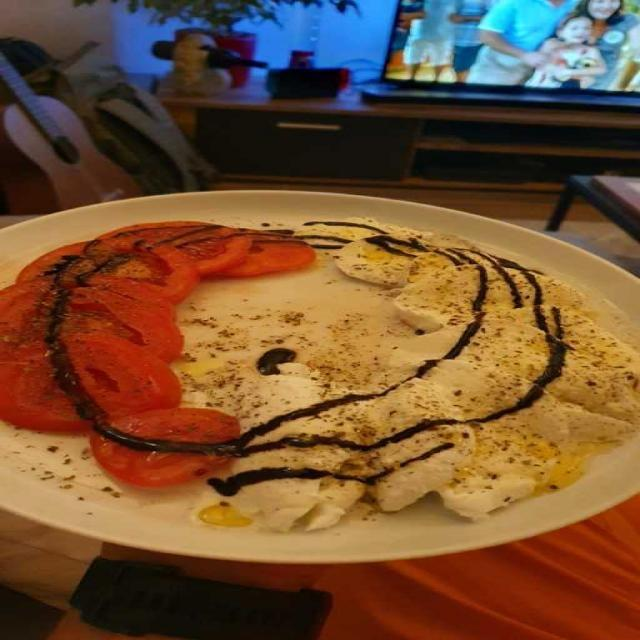cheese: (230, 240, 634, 534)
tomato: (0, 222, 299, 499)
